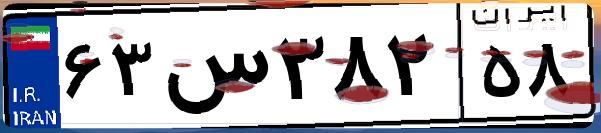2: (385, 28, 445, 110)
3: (270, 28, 330, 110), (110, 28, 158, 98)
5: (475, 38, 525, 113)
6: (57, 26, 110, 100)
8: (330, 28, 385, 110), (525, 38, 570, 115)
س: (158, 20, 270, 120)
